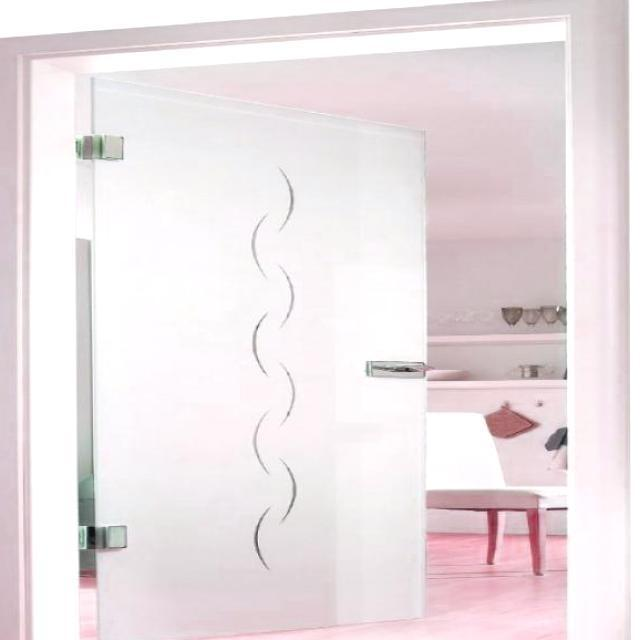door: (85, 76, 428, 638)
